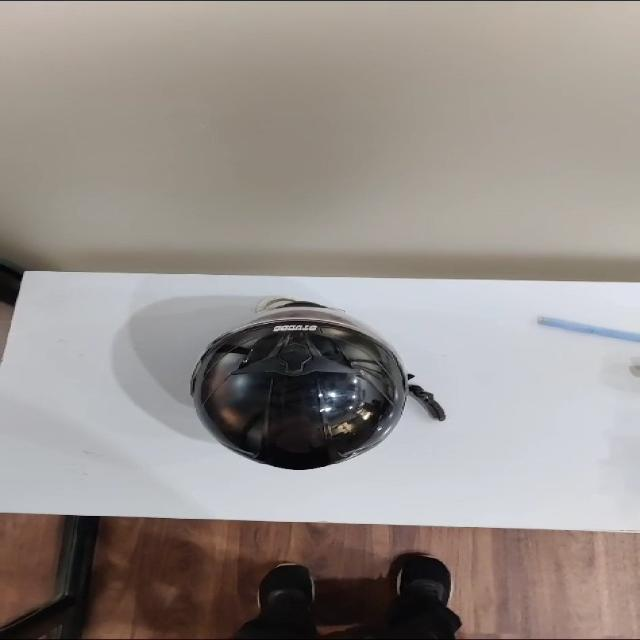helmet: (190, 297, 444, 468)
